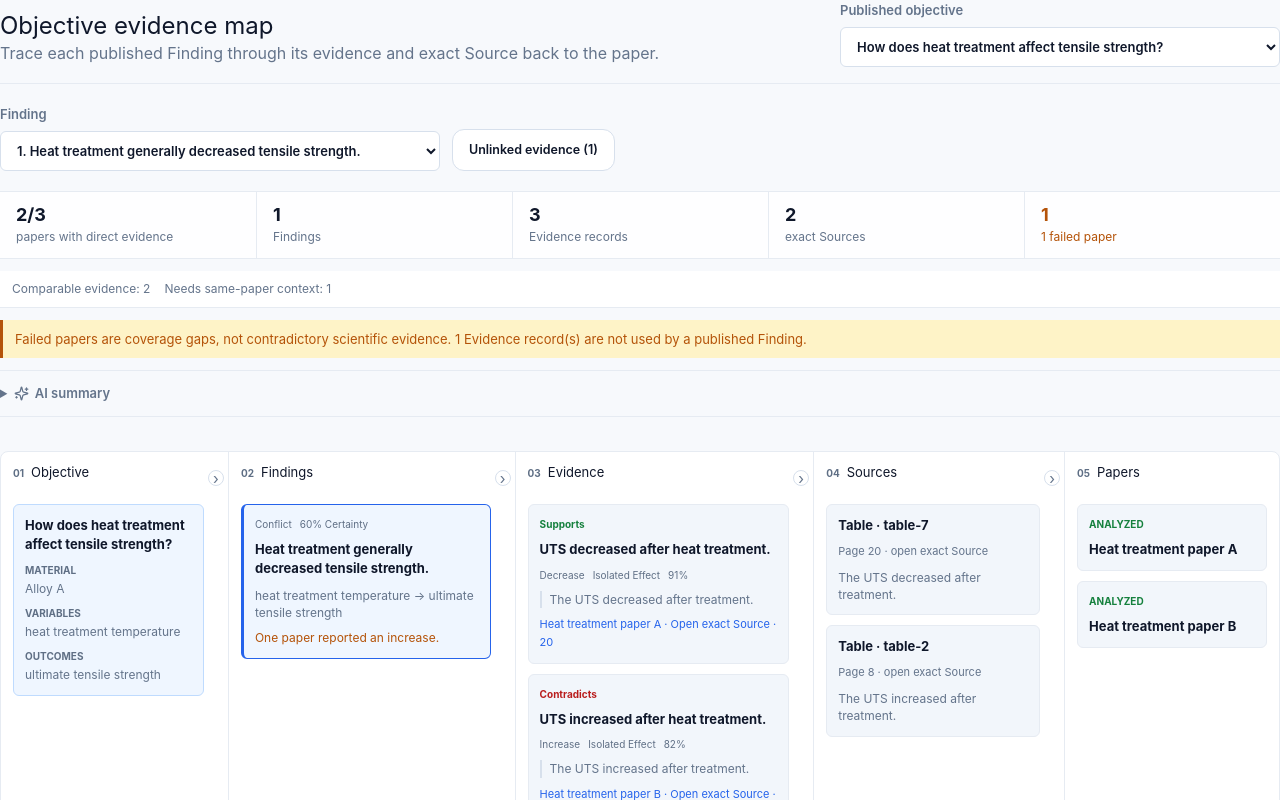
Test: collections/[id]/graph/+page.svelte › keeps unlinked evidence inspectable and honors a Finding deep link
Expected: the dropdown labelled "Finding" shows "1. Heat treatment generally decreased tensile strength.", [0,131,440,171]
Click the button "Unlinked evidence (1)". click: (533, 150)
box: [452,129,615,171]
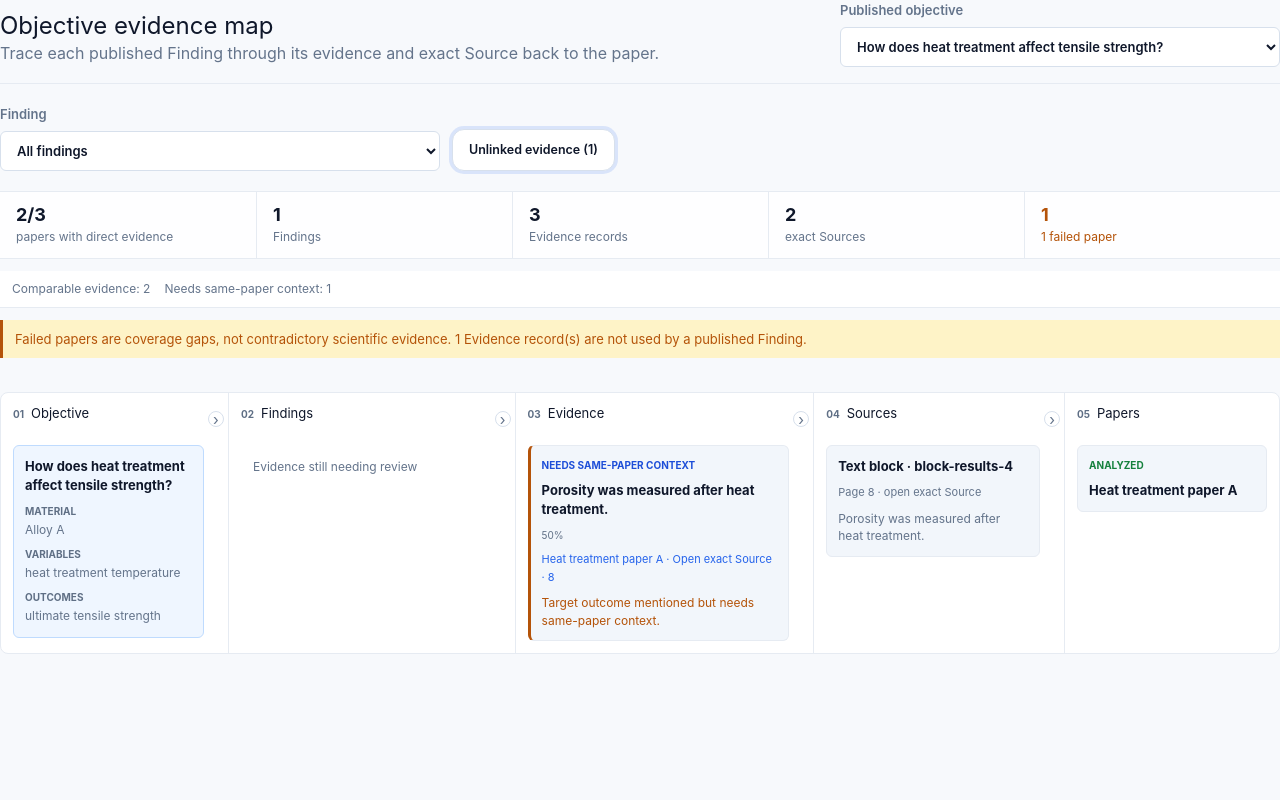
Expected: the text "1 failed paper" is shown, [1041,229,1117,244]
Result: the text "Porosity was measured after heat treatment." below "03" is shown at [542,482,754,517]
